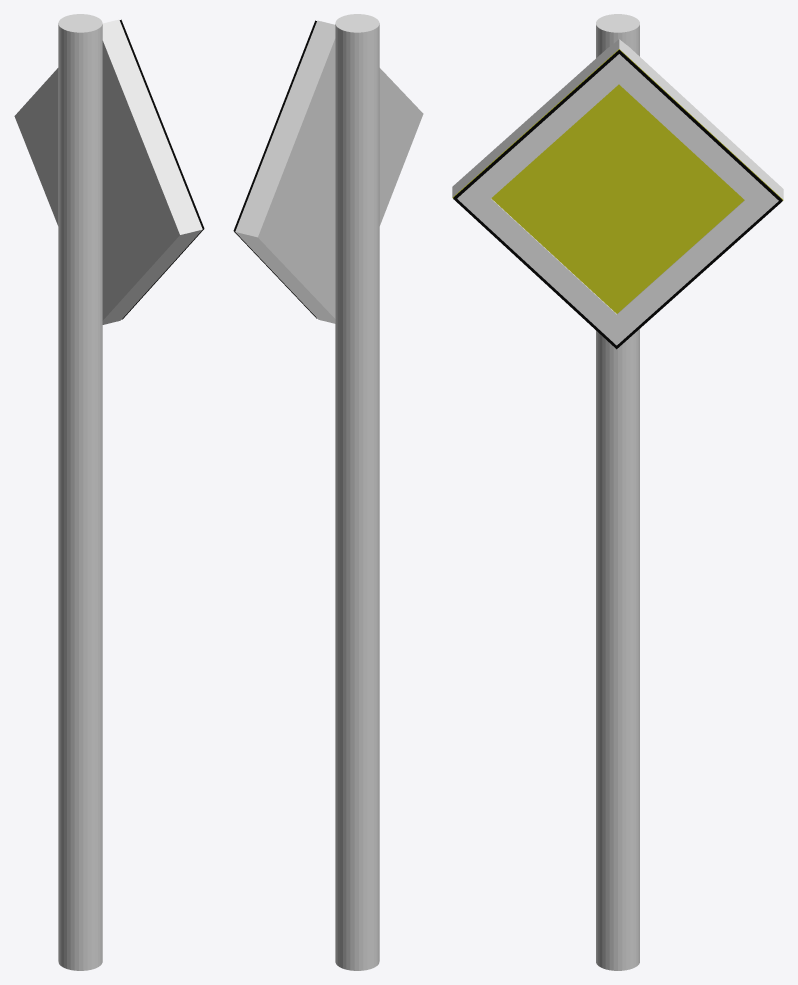
Rendered from SignPriorityRoad.fbx.
3 views of the same model, side by side, from view 1: azimuth 30°, elevation 25°; view 2: azimuth 150°, elevation 25°; view 3: azimuth 270°, elevation 25° (orthographic).
Parts seen in each view (by area): view 1: Cylinder.022, SignSquare.002, SignSquare.005; view 2: Cylinder.022, SignSquare.002, SignSquare.005; view 3: SignSquare.002, Cylinder.022, SignSquare.004, SignSquare.005.
Boxes of the visible parts, x1,y1,x2,y2 form: Cylinder.022: [58, 14, 102, 970]; SignSquare.002: [14, 19, 202, 324]; SignSquare.005: [119, 19, 204, 319]; Cylinder.022: [335, 14, 379, 970]; SignSquare.002: [235, 20, 423, 323]; SignSquare.005: [233, 20, 316, 318]; SignSquare.002: [452, 39, 783, 313]; Cylinder.022: [596, 14, 639, 970]; SignSquare.004: [457, 54, 778, 345]; SignSquare.005: [453, 50, 782, 349].
Size of the model in its own units: 113 by 1671 by 535.
